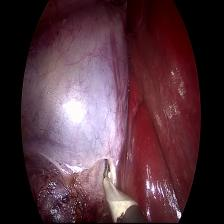Hook: (97, 156, 145, 224)
